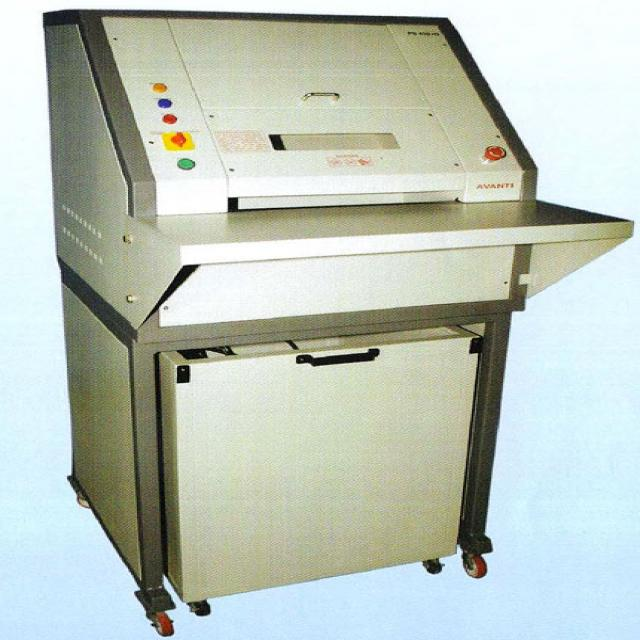palette: (34, 5, 640, 640)
